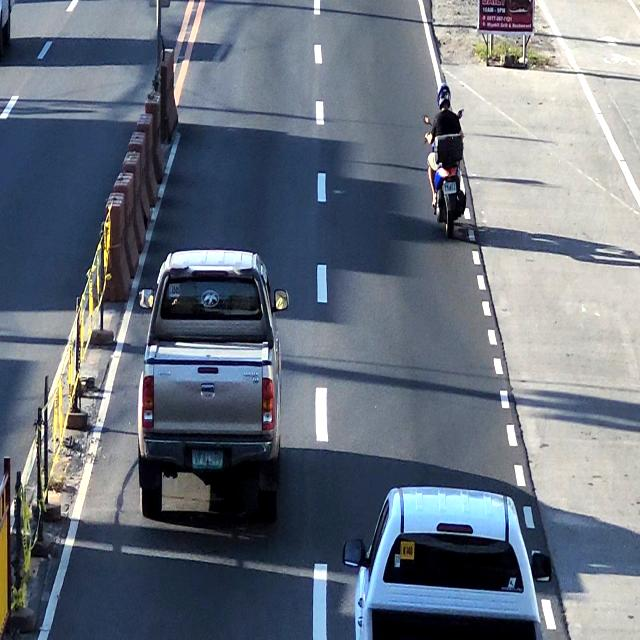Car: (350, 488, 545, 640)
Motorcycle: (426, 86, 469, 242)
